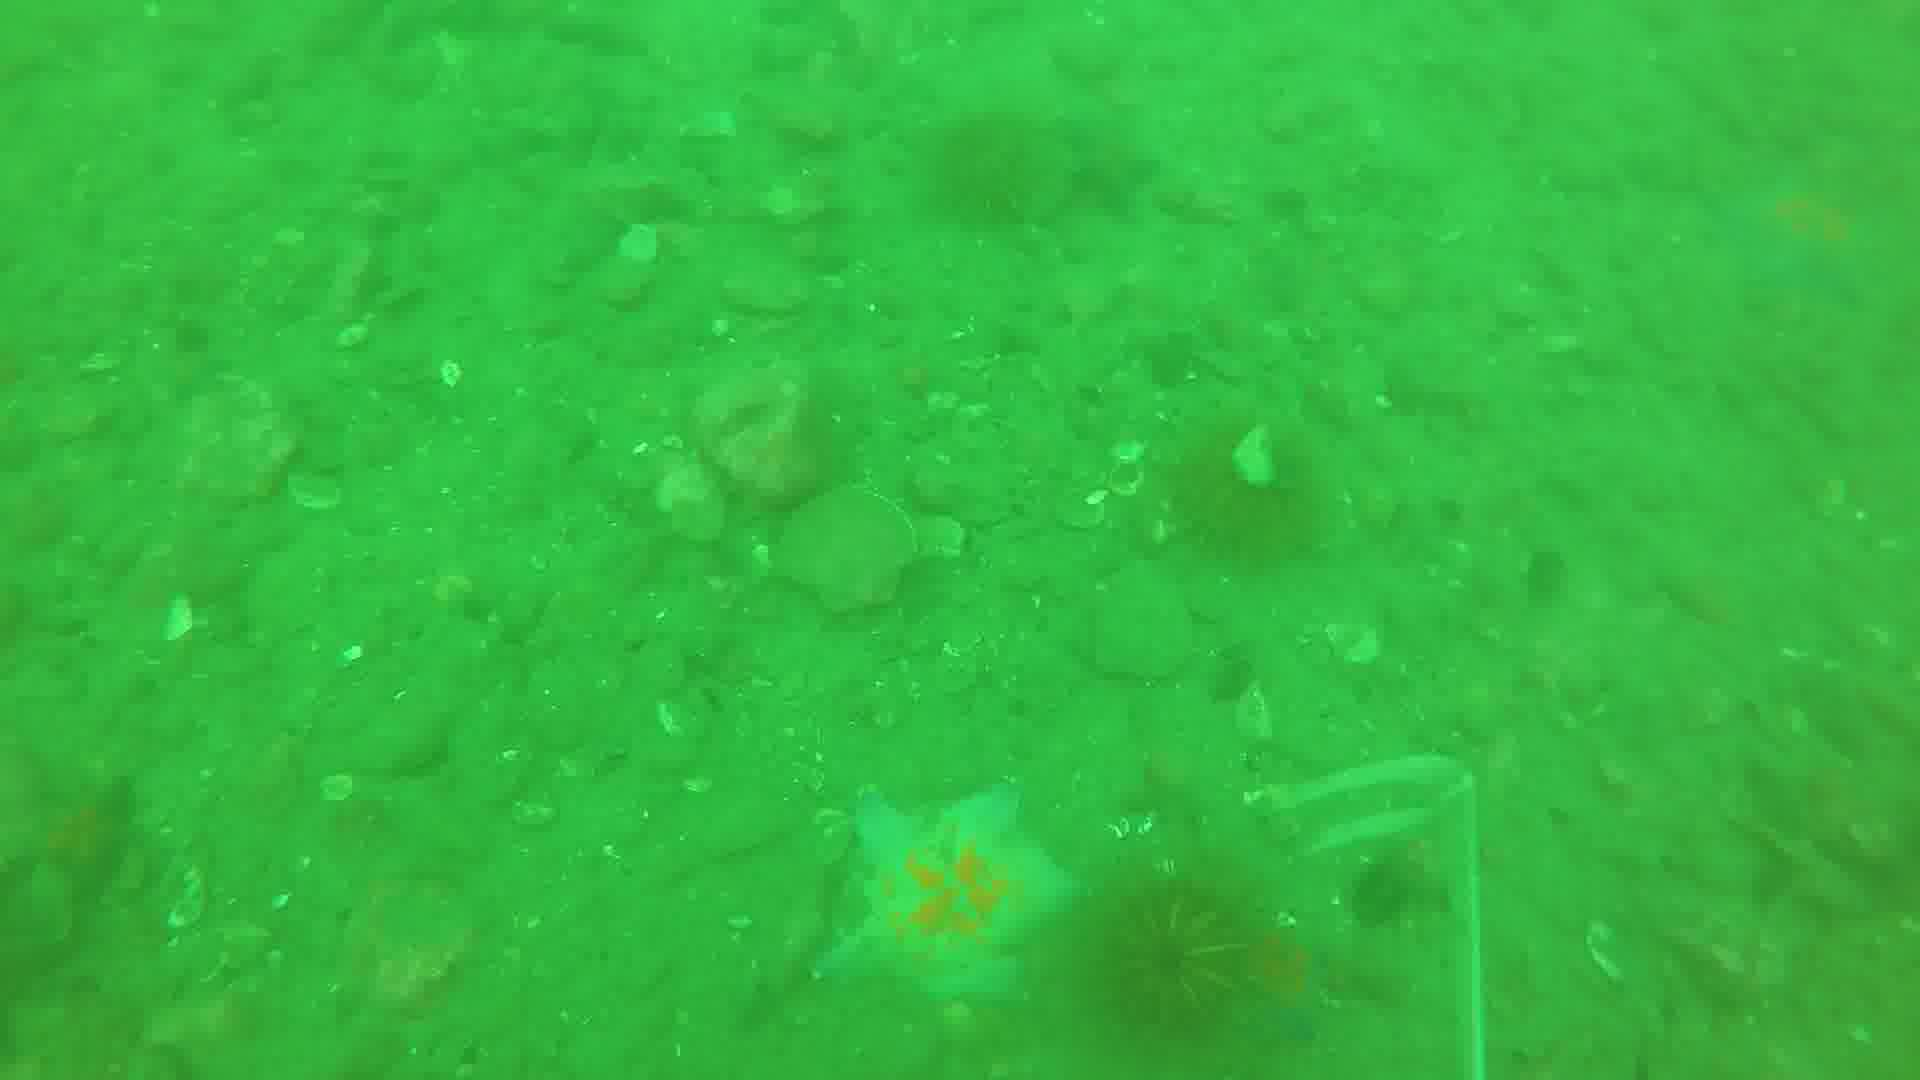echinus: (1098, 866, 1258, 1042), (1192, 435, 1344, 578), (920, 98, 1069, 233)
scallop: (775, 491, 920, 615), (1064, 462, 1141, 527), (650, 460, 723, 517), (1237, 691, 1294, 745), (284, 471, 345, 520)
starfish: (822, 793, 1089, 1013), (30, 756, 150, 895)
